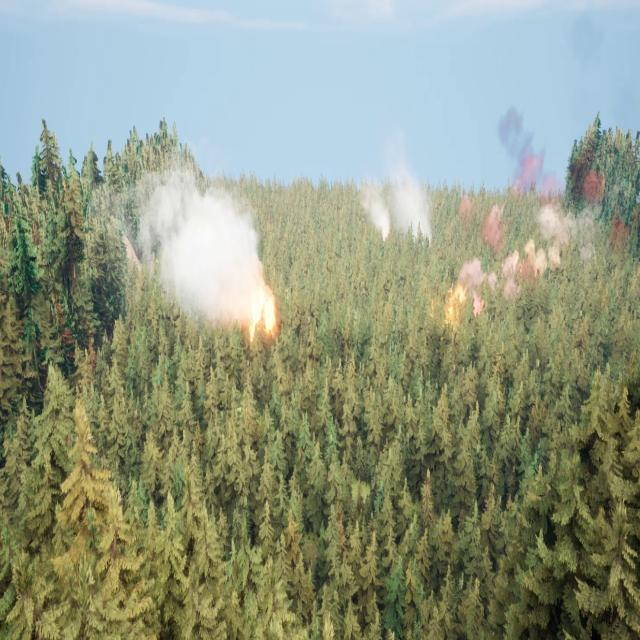fire: (247, 284, 282, 344), (442, 289, 473, 323)
smoke: (117, 171, 266, 332), (458, 99, 573, 306), (354, 123, 437, 248)
